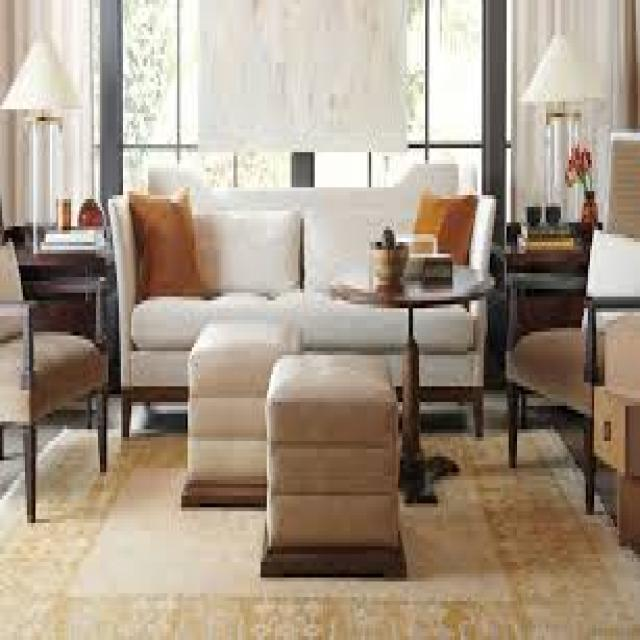chair: (488, 82, 640, 547), (0, 224, 121, 555)
